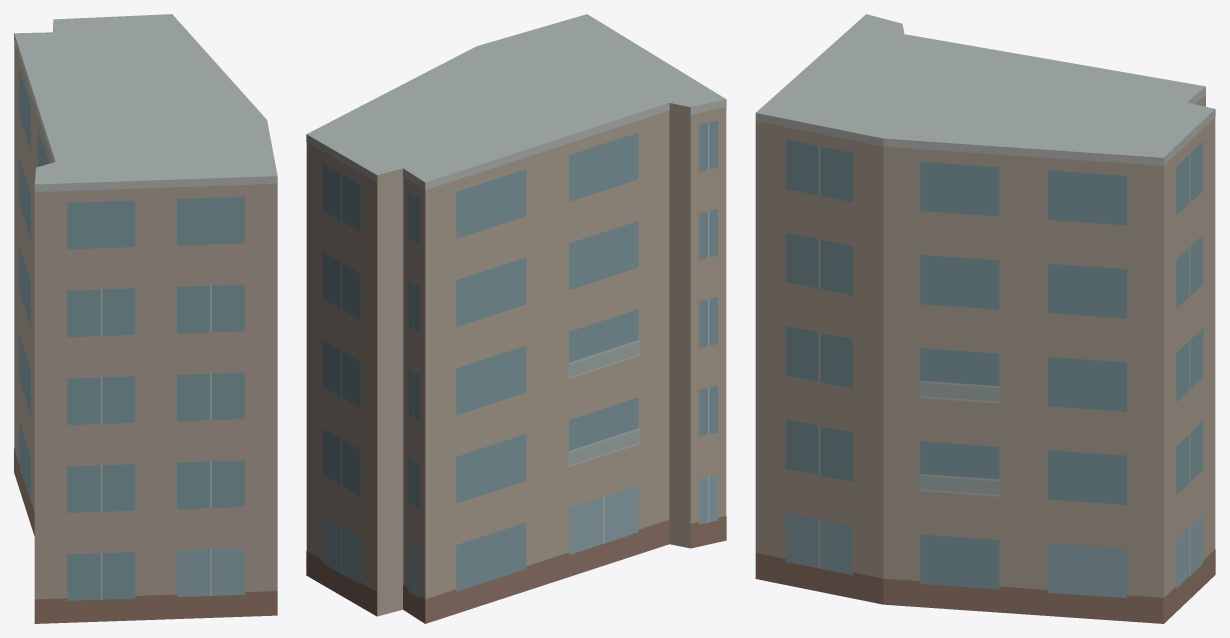
The model's file is survey-upis-33029359.glb.
3 views of the same model, side by side, from view 1: azimuth 30°, elevation 25°; view 2: azimuth 150°, elevation 25°; view 3: azimuth 270°, elevation 25° (orthographic). The views are drawn at different scales.
Parts seen in each view (by area): view 1: survey-upis-33029359.tmp; view 2: survey-upis-33029359.tmp; view 3: survey-upis-33029359.tmp.
Boxes of the visible parts, x1,y1,x2,y2 form: survey-upis-33029359.tmp: [14, 14, 277, 623]; survey-upis-33029359.tmp: [306, 14, 726, 623]; survey-upis-33029359.tmp: [755, 14, 1215, 623].
Size of the model in its own units: 9.34 by 14.1 by 12.62.
